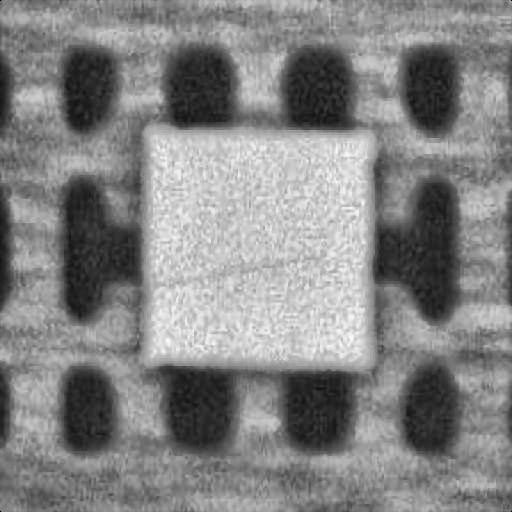DIE_CRACK: (225, 169, 483, 190)
